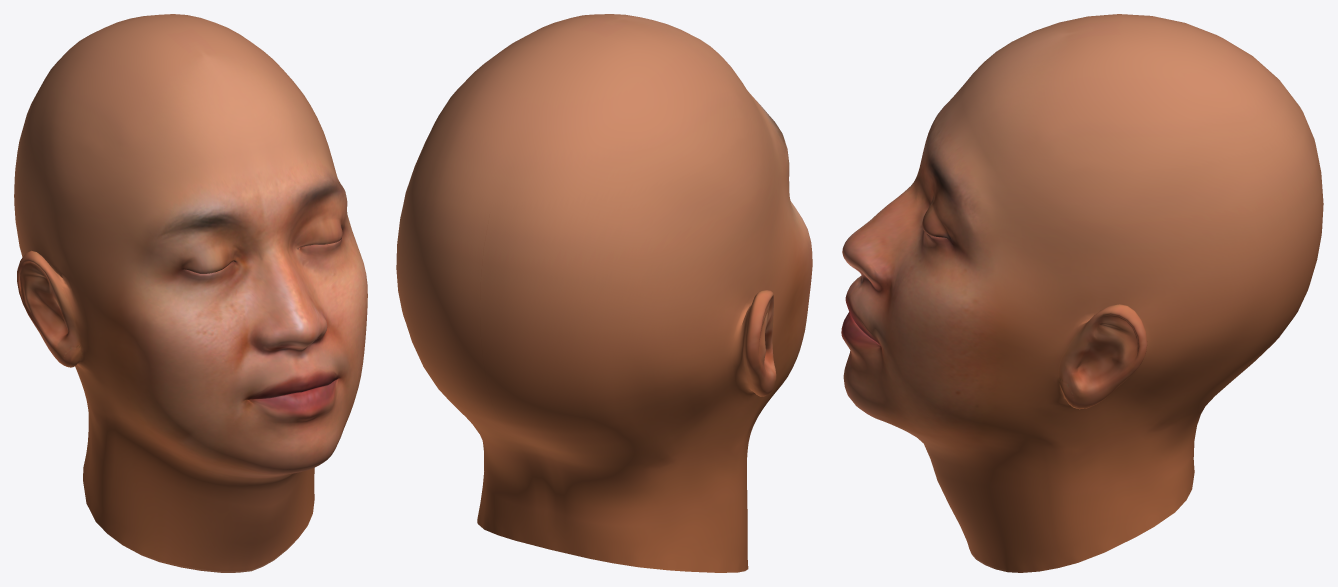
Rendered from james_hi.obj.
The picture shows the model from 3 angles, left to right: view 1: azimuth 30°, elevation 25°; view 2: azimuth 150°, elevation 25°; view 3: azimuth 270°, elevation 25°; orthographic projection. The views are drawn at different scales.
Parts seen in each view (by area): view 1: skin_hi; view 2: skin_hi; view 3: skin_hi.
Boxes of the visible parts, x1,y1,x2,y2 form: skin_hi: [14, 14, 367, 572]; skin_hi: [396, 14, 812, 572]; skin_hi: [841, 14, 1323, 572].
Bounding box in the file's own units: 18.82 × 28.54 × 23.94.
1 material, 1 textured.
